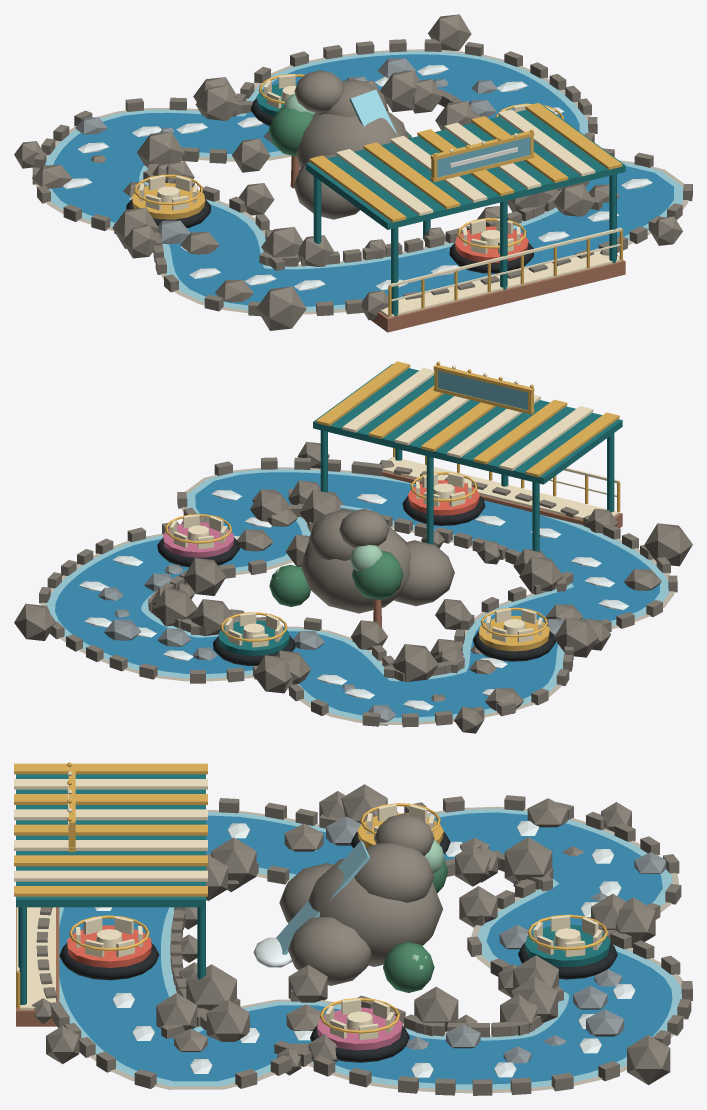
The model's file is ride_rapids.glb.
3 renders of one model, top to bottom at view 1: azimuth 30°, elevation 25°; view 2: azimuth 150°, elevation 25°; view 3: azimuth 270°, elevation 25°, orthographic. The views are drawn at different scales.
Parts seen in each view (by area): view 1: ride_rapids; view 2: ride_rapids; view 3: ride_rapids.
Part boxes in pixels (bbox=[...]): ride_rapids: bbox=[14, 14, 692, 332]; ride_rapids: bbox=[14, 361, 692, 733]; ride_rapids: bbox=[14, 762, 692, 1095].
Size of the model in its own units: 15.85 by 4.34 by 15.74.
